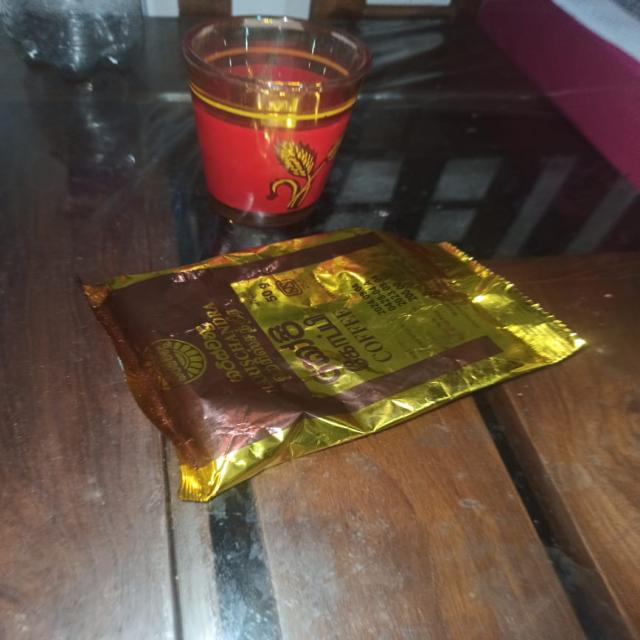Harischandra Coffee: (59, 225, 619, 463)
